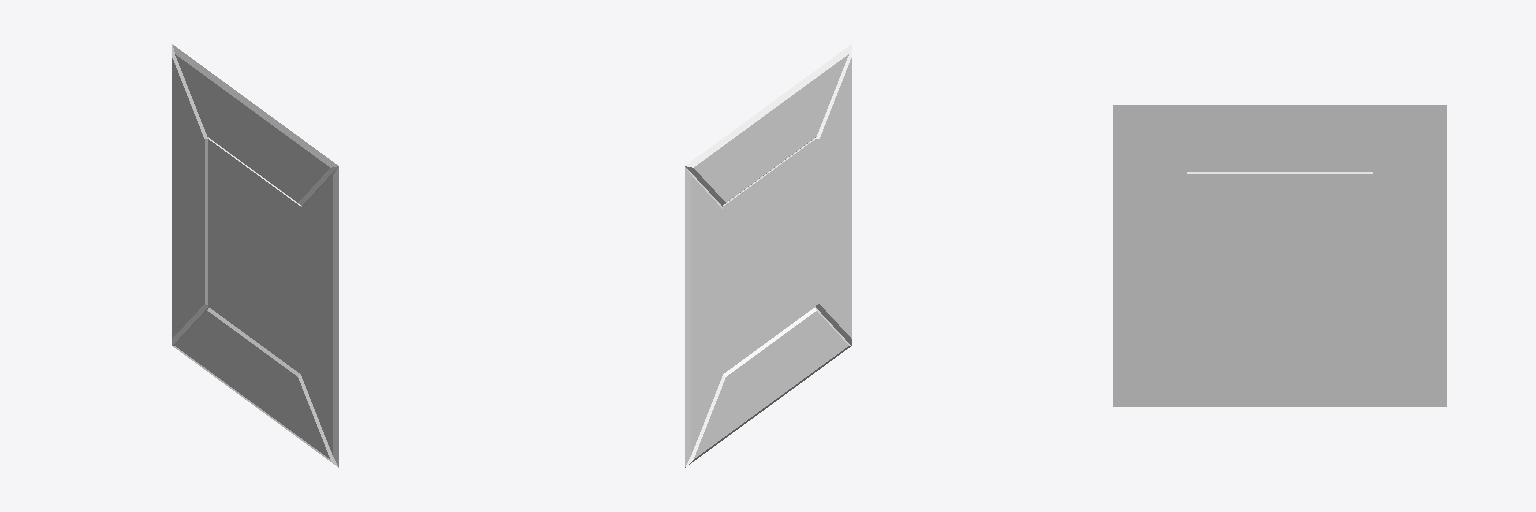
Rendered from mirror9.obj.
3 renders of one model, left to right at view 1: azimuth 30°, elevation 25°; view 2: azimuth 150°, elevation 25°; view 3: azimuth 270°, elevation 25°, orthographic.
Visible parts, largest first — view 1: Line26; view 2: Line26; view 3: Line26.
Part boxes in pixels (bbox=[...]): Line26: bbox=[172, 44, 338, 467]; Line26: bbox=[685, 44, 851, 467]; Line26: bbox=[1113, 105, 1446, 406].
Bounding box in the file's own units: 2.08 × 90 × 90.